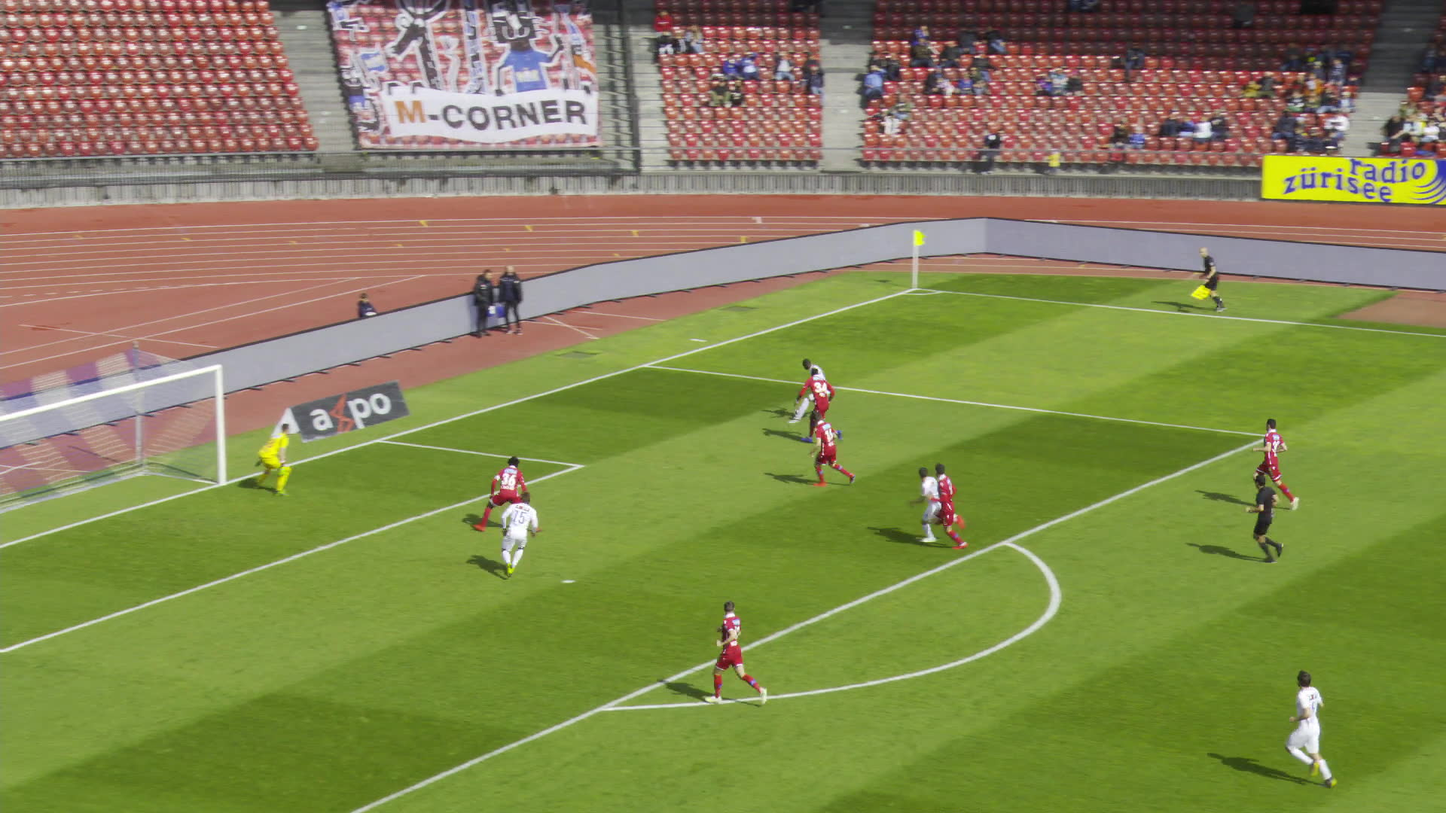ball: (791, 407, 799, 414)
player: (700, 600, 766, 703), (1283, 670, 1338, 788), (471, 455, 538, 531), (1251, 418, 1299, 510), (926, 463, 969, 549), (810, 413, 855, 486), (500, 492, 538, 575), (793, 367, 834, 442), (253, 422, 292, 495), (909, 466, 941, 542), (788, 358, 825, 423)
referee: (1244, 474, 1283, 562), (1199, 247, 1228, 312)
